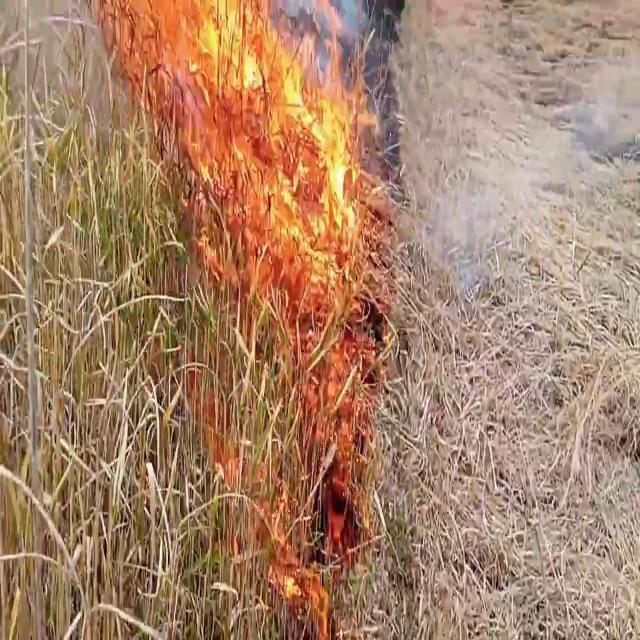Fire: (110, 0, 376, 295)
